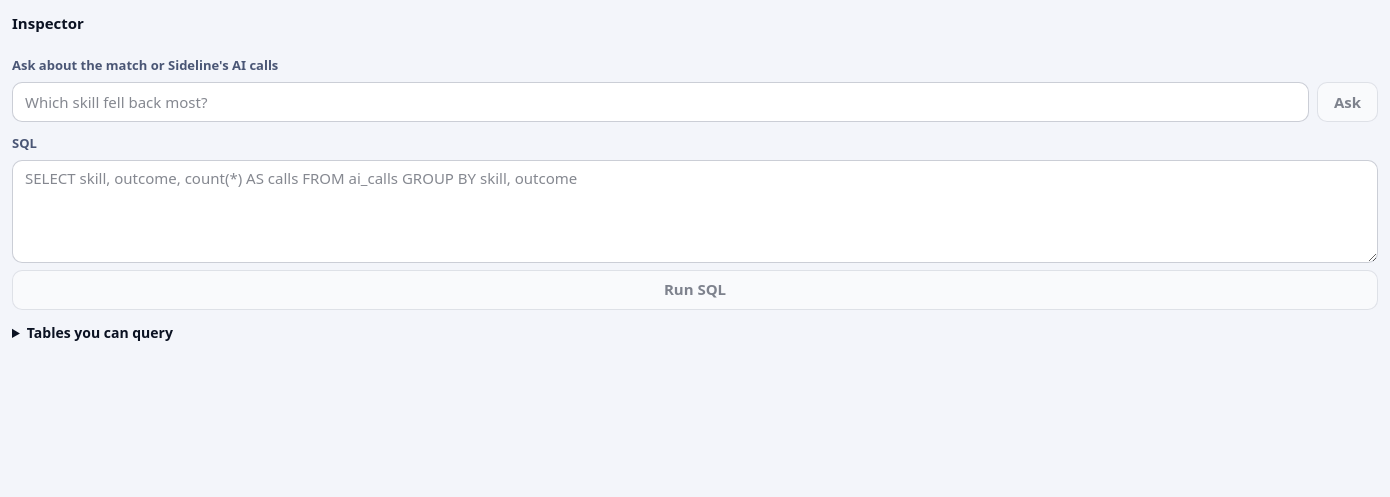
Test case: InspectorQuery (PLAN 9.2) › asks in English and shows the model's SQL, its explanation and the rows
Type "Who has scored most so far?" into the field labelled "Ask about the match or Sideline's AI calls".
click(660, 102); type("Who has scored most so far?")  # box [12, 82, 1309, 122]
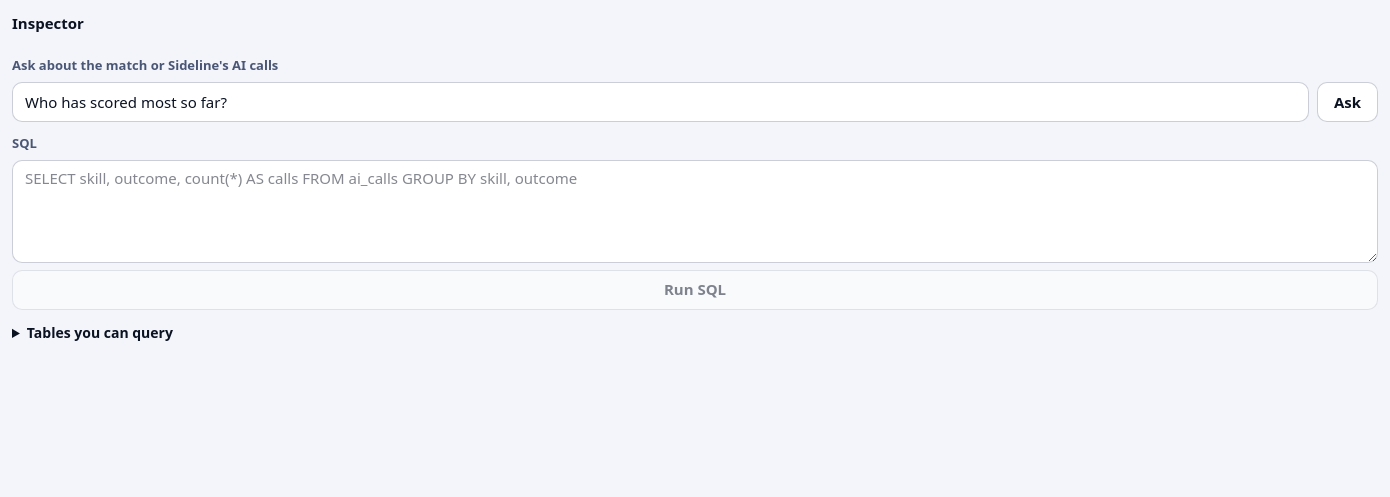
Click the button "Ask".
click(1347, 102)  # box [1317, 82, 1378, 122]
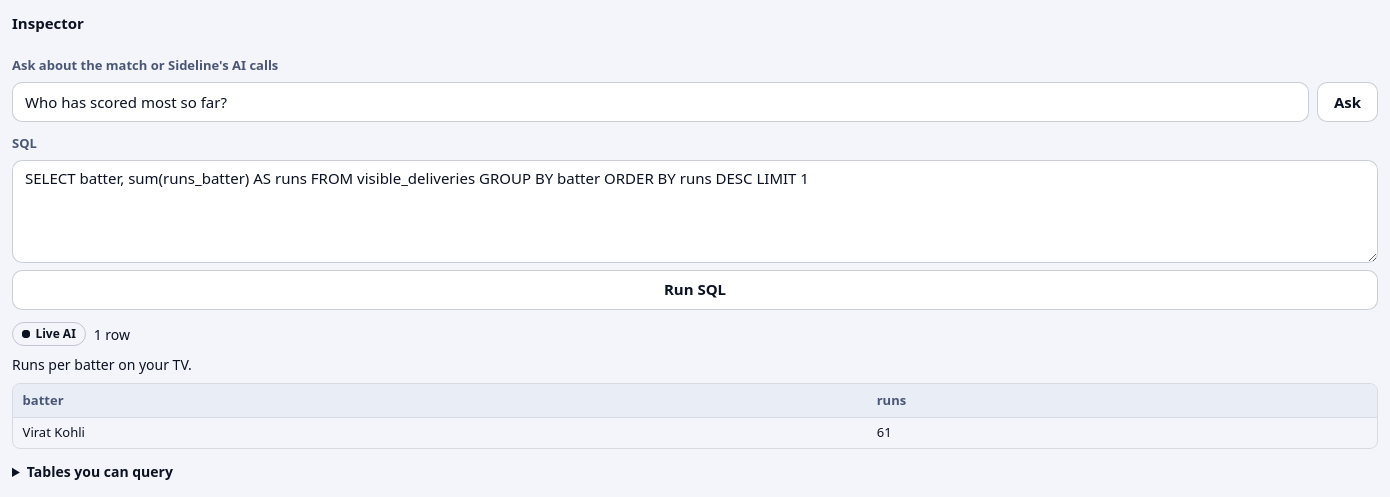
Now the text "Runs per batter on your TV." is shown, box [12, 355, 192, 374]
Now the text box labelled "SQL" holds "SELECT batter, sum(runs_batter) AS runs FROM visible_deliveries GROUP BY batter ORDER BY runs DESC LIMIT 1", box [12, 160, 1378, 263]
Now the text "1 row" is shown, box [94, 324, 130, 344]
